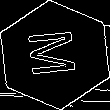M_E: (25, 29, 85, 81)
